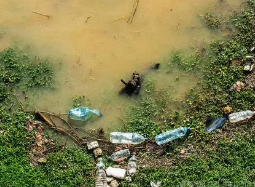garbage: (149, 124, 199, 145), (100, 129, 157, 146), (198, 112, 231, 134), (63, 105, 103, 123), (125, 152, 147, 181), (229, 105, 255, 127), (103, 160, 134, 178), (89, 140, 110, 166), (123, 74, 148, 94), (92, 166, 113, 187), (107, 149, 134, 162), (144, 177, 159, 187)
